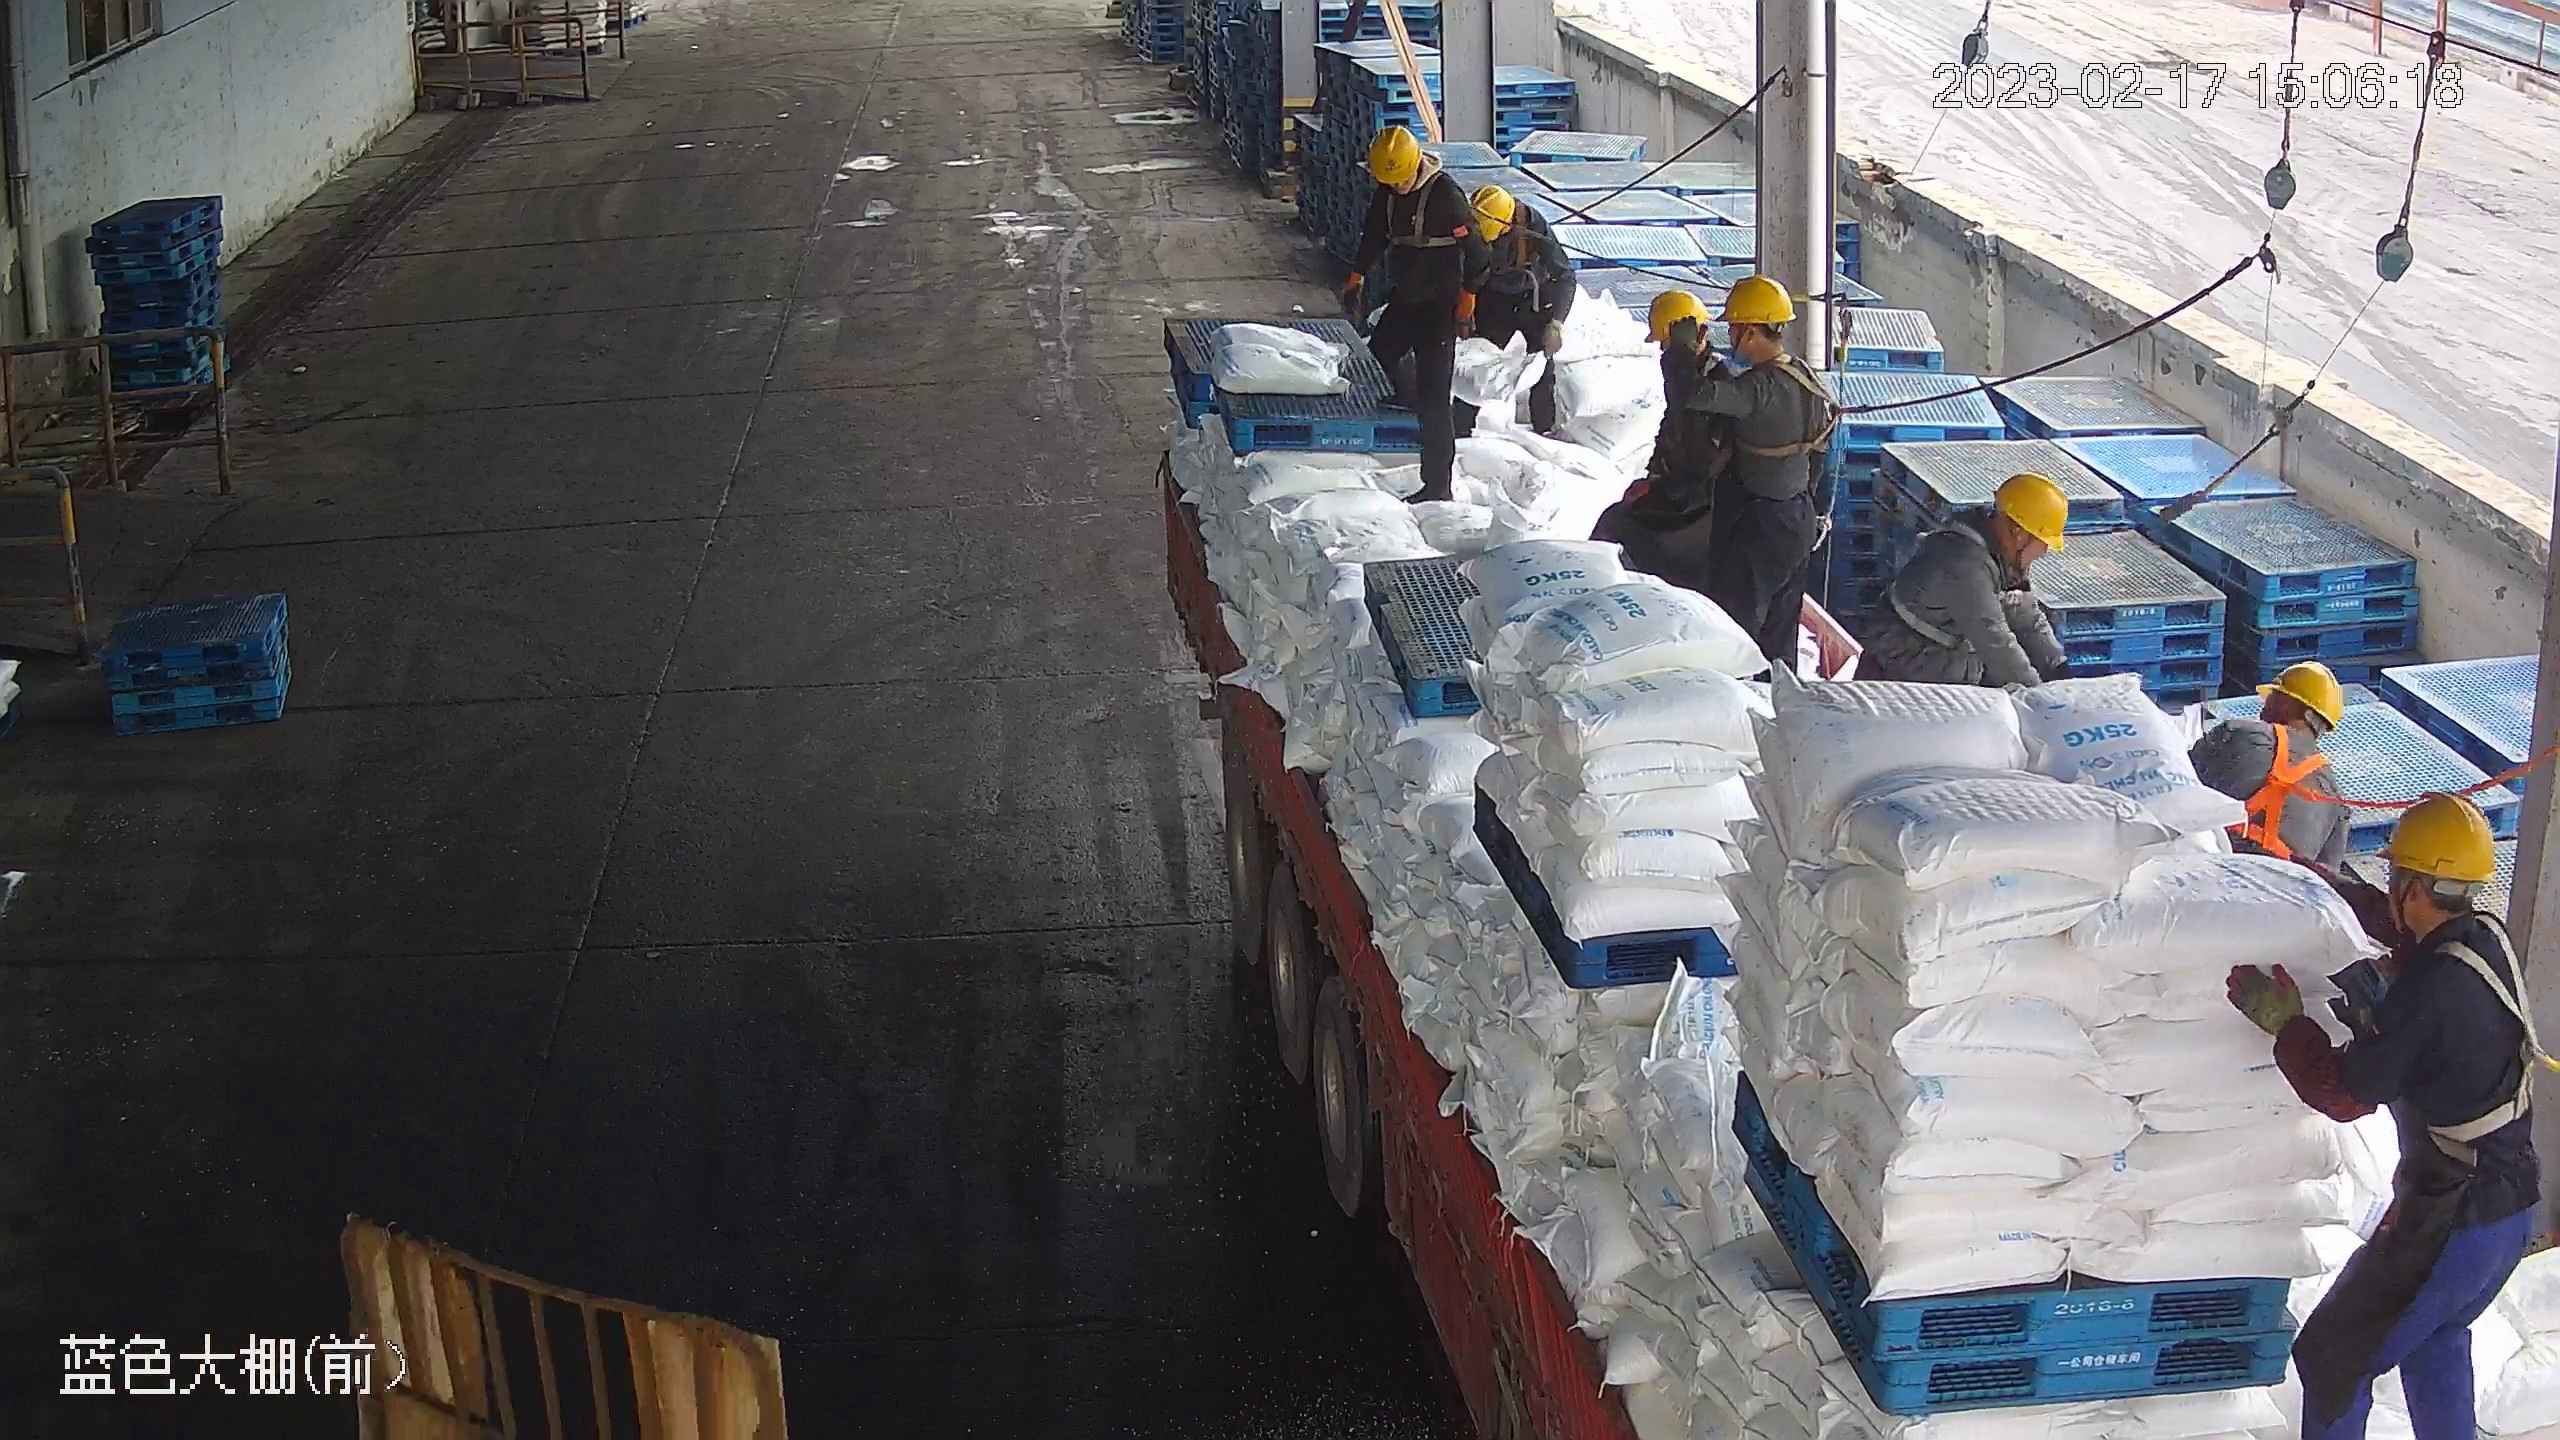belt: (2394, 918, 2553, 1140), (1880, 513, 2004, 650), (2226, 728, 2346, 866), (1740, 355, 1847, 464), (1375, 173, 1461, 253), (1496, 205, 1548, 276)
head: (2339, 788, 2528, 1037), (1906, 468, 2070, 616), (2203, 658, 2349, 801), (1707, 273, 1838, 433), (1645, 284, 1745, 417), (1352, 126, 1466, 235), (1464, 185, 1564, 276)
helmet: (2379, 792, 2497, 881), (1990, 470, 2068, 552), (2263, 658, 2343, 735), (1720, 272, 1794, 327), (1368, 122, 1427, 184), (1645, 287, 1707, 338), (1470, 184, 1518, 240)
people: (2234, 783, 2545, 1438), (1598, 276, 1804, 664), (1695, 283, 1838, 671), (1339, 123, 1474, 505), (1461, 181, 1578, 439)
truck: (1161, 336, 2551, 1440)
